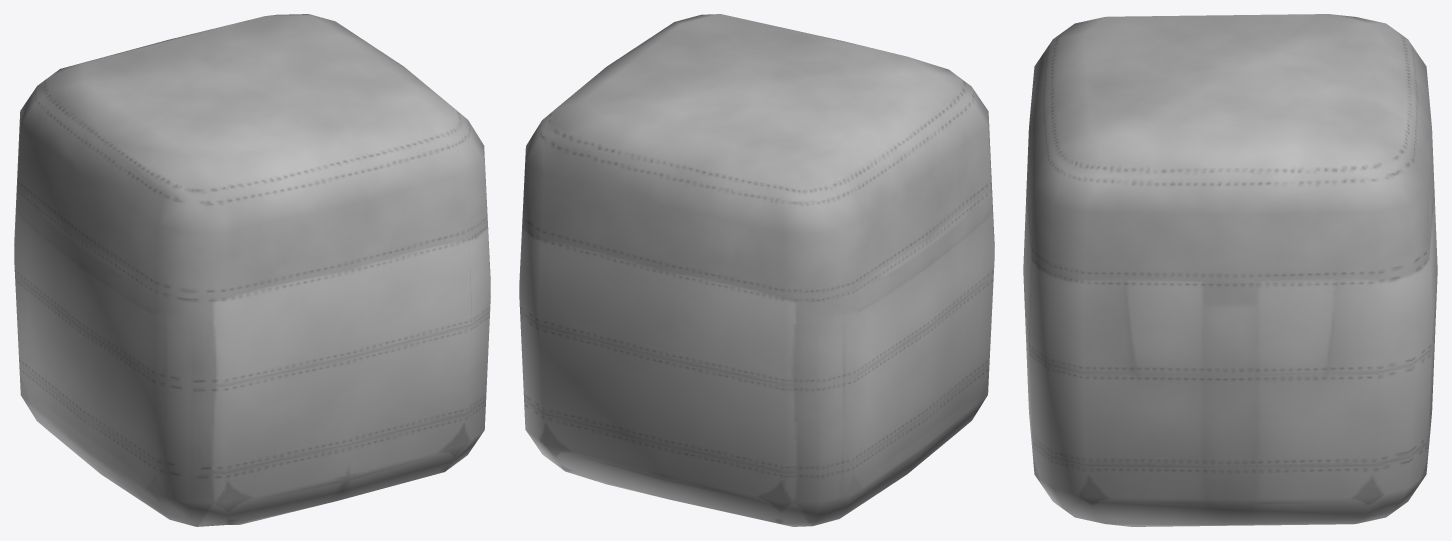
The model's file is LeftLowerLeg_C1.fbx.
3 renders of one model, left to right at view 1: azimuth 30°, elevation 25°; view 2: azimuth 150°, elevation 25°; view 3: azimuth 270°, elevation 25°, orthographic. The views are drawn at different scales.
Visible parts, largest first — view 1: Civ_Mameluco_LeftLowerLeg_C1; view 2: Civ_Mameluco_LeftLowerLeg_C1; view 3: Civ_Mameluco_LeftLowerLeg_C1.
Part boxes in pixels (x1=…): Civ_Mameluco_LeftLowerLeg_C1: x1=14, y1=14, x2=490, y2=526; Civ_Mameluco_LeftLowerLeg_C1: x1=519, y1=14, x2=994, y2=526; Civ_Mameluco_LeftLowerLeg_C1: x1=1023, y1=14, x2=1437, y2=526.
Bounding box in the file's own units: 1.31 × 1.37 × 1.29.
